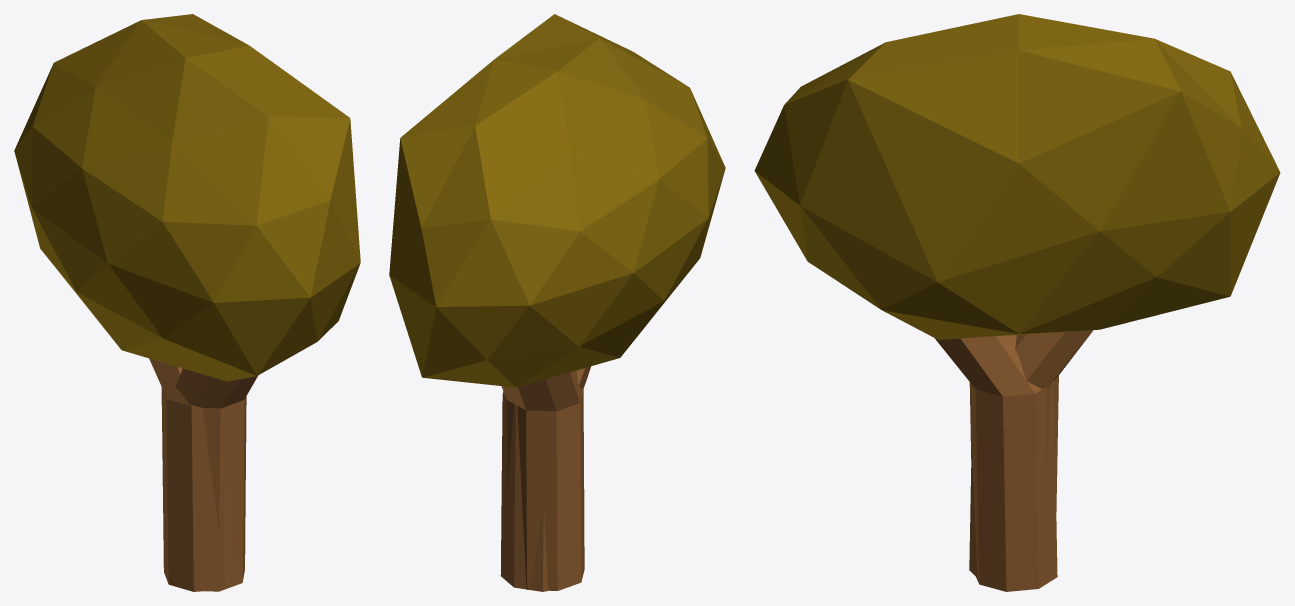
The model's file is TreeWithDoubleBranch1fbx.fbx.
3 views of the same model, side by side, from view 1: azimuth 30°, elevation 25°; view 2: azimuth 150°, elevation 25°; view 3: azimuth 270°, elevation 25° (orthographic). The views are drawn at different scales.
Visible parts, largest first — view 1: Icosphere.002, Cylinder.004, Cylinder.005; view 2: Icosphere.002, Cylinder.004, Cylinder.005; view 3: Icosphere.002, Cylinder.005, Cylinder.004.
Boxes of the visible parts, x1=… form: Icosphere.002: x1=14, y1=14, x2=360, y2=381; Cylinder.004: x1=149, y1=358, x2=235, y2=591; Cylinder.005: x1=175, y1=368, x2=258, y2=591; Icosphere.002: x1=389, y1=14, x2=725, y2=387; Cylinder.004: x1=501, y1=370, x2=584, y2=590; Cylinder.005: x1=500, y1=366, x2=590, y2=591; Icosphere.002: x1=754, y1=14, x2=1280, y2=339; Cylinder.005: x1=934, y1=335, x2=1057, y2=591; Cylinder.004: x1=969, y1=330, x2=1093, y2=577.
Size of the model in its own units: 263 by 564 by 488.
